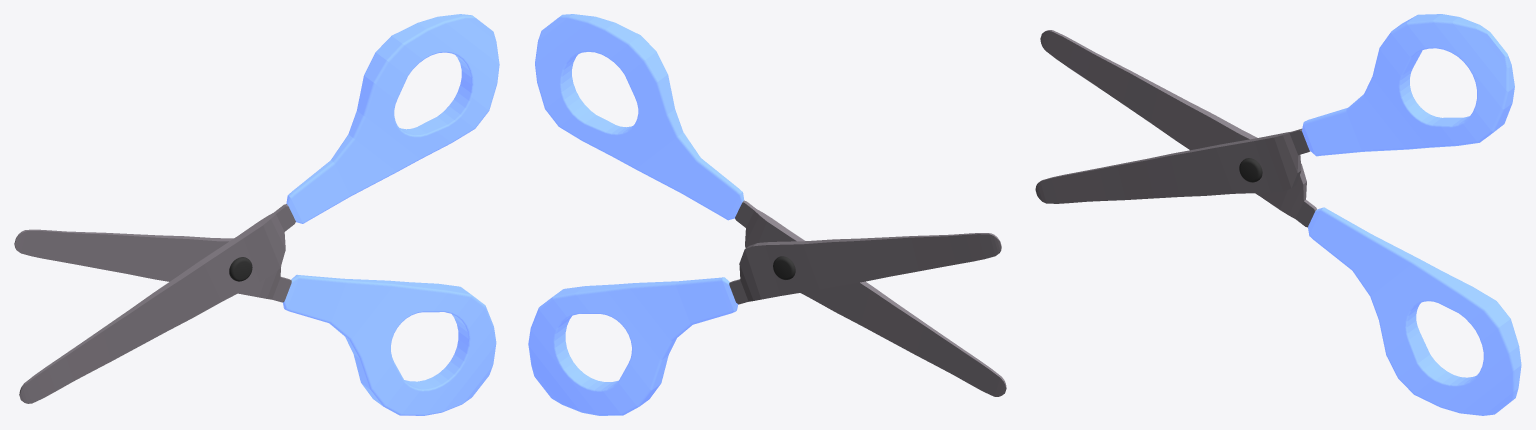
File: scissor1 Speed High.fbx
3 views of the same model, side by side, from view 1: azimuth 30°, elevation 25°; view 2: azimuth 150°, elevation 25°; view 3: azimuth 330°, elevation 25° (orthographic).
Parts seen in each view (by area): view 1: Cube, Cube.001, Cylinder; view 2: Cube.001, Cube, Cylinder; view 3: Cube, Cube.001, Cylinder.
Part boxes in pixels (box(x1,y1,x2,y2)): Cube: box(19, 14, 499, 403); Cube.001: box(14, 229, 496, 415); Cylinder: box(229, 257, 252, 281); Cube.001: box(528, 233, 1001, 415); Cube: box(535, 14, 1006, 396); Cylinder: box(773, 256, 795, 279); Cube: box(1035, 14, 1514, 203); Cube.001: box(1040, 30, 1521, 415); Cylinder: box(1239, 158, 1262, 182).
Bounding box in the file's own units: 445 × 351 × 28.61.
